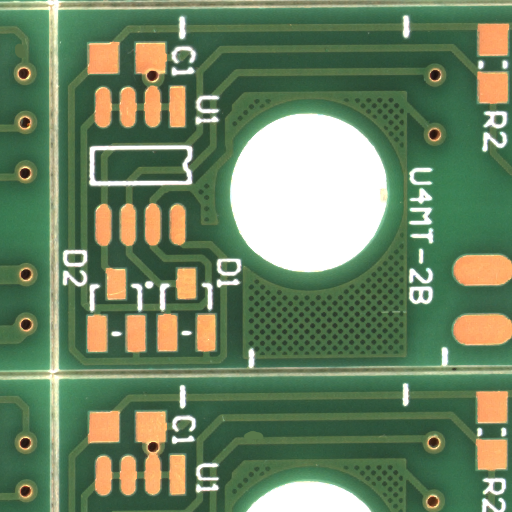Spur: (17, 50, 30, 67), (253, 434, 271, 442)
